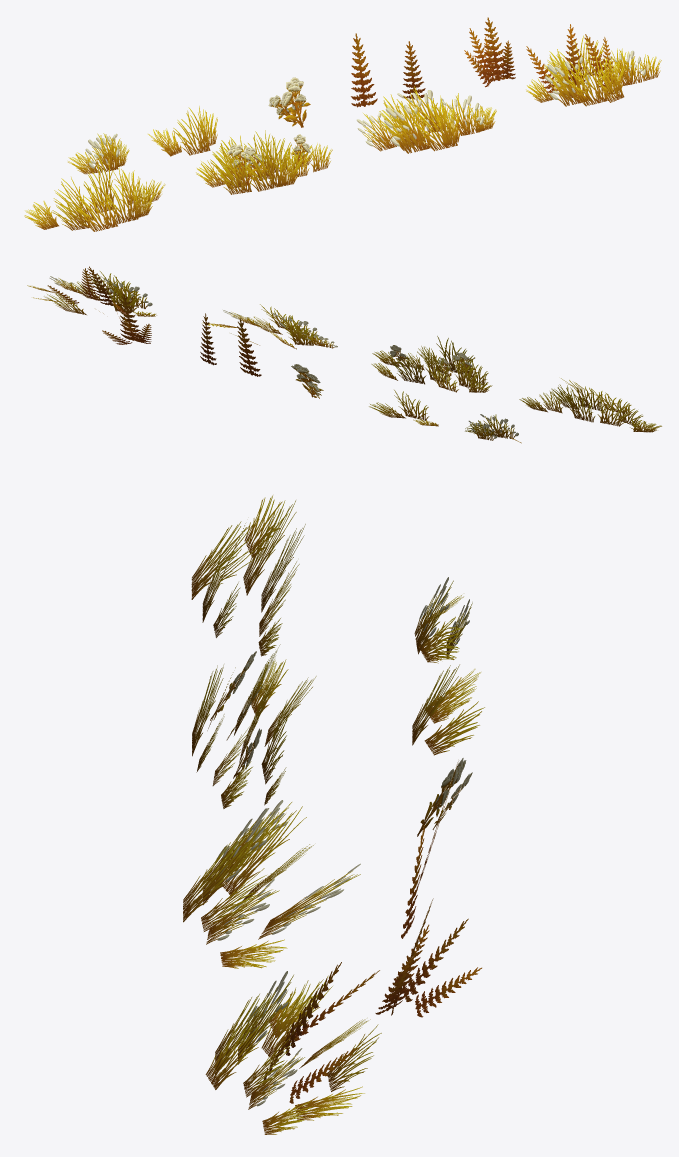
File: 2_Plant_HuangCao_01.FBX
3 renders of one model, top to bottom at view 1: azimuth 30°, elevation 25°; view 2: azimuth 150°, elevation 25°; view 3: azimuth 270°, elevation 25°, orthographic. The views are drawn at different scales.
Visible parts, largest first — view 1: 2_Plant_HongCao_04, 2_Plant_HongCao_03, 2_Plant_HongCao_02, 2_Plant_HongCao_01, 2_Plant_HongCao_10, 2_Plant_HongCao_06, 2_Plant_HongCao_05, 2_Plant_HongCao_07, 2_Plant_HongCao_08, 2_Plant_HongCao_09; view 2: 2_Plant_HongCao_02, 2_Plant_HongCao_01, 2_Plant_HongCao_04, 2_Plant_HongCao_03, 2_Plant_HongCao_10, 2_Plant_HongCao_05, 2_Plant_HongCao_06, 2_Plant_HongCao_08, 2_Plant_HongCao_07, 2_Plant_HongCao_09; view 3: 2_Plant_HongCao_04, 2_Plant_HongCao_03, 2_Plant_HongCao_01, 2_Plant_HongCao_02, 2_Plant_HongCao_06, 2_Plant_HongCao_10, 2_Plant_HongCao_05, 2_Plant_HongCao_07.
Part boxes in pixels (x1=…): 2_Plant_HongCao_04: x1=526, y1=24, x2=661, y2=106; 2_Plant_HongCao_03: x1=356, y1=86, x2=496, y2=153; 2_Plant_HongCao_02: x1=196, y1=130, x2=332, y2=194; 2_Plant_HongCao_01: x1=24, y1=157, x2=165, y2=231; 2_Plant_HongCao_10: x1=464, y1=17, x2=515, y2=87; 2_Plant_HongCao_06: x1=148, y1=106, x2=217, y2=156; 2_Plant_HongCao_05: x1=68, y1=133, x2=129, y2=174; 2_Plant_HongCao_07: x1=268, y1=77, x2=310, y2=127; 2_Plant_HongCao_08: x1=351, y1=33, x2=377, y2=107; 2_Plant_HongCao_09: x1=402, y1=41, x2=426, y2=99; 2_Plant_HongCao_02: x1=371, y1=336, x2=492, y2=392; 2_Plant_HongCao_01: x1=519, y1=378, x2=661, y2=432; 2_Plant_HongCao_04: x1=27, y1=266, x2=156, y2=316; 2_Plant_HongCao_03: x1=203, y1=304, x2=337, y2=349; 2_Plant_HongCao_10: x1=102, y1=293, x2=151, y2=344; 2_Plant_HongCao_05: x1=465, y1=414, x2=521, y2=443; 2_Plant_HongCao_06: x1=369, y1=390, x2=438, y2=426; 2_Plant_HongCao_08: x1=237, y1=318, x2=261, y2=376; 2_Plant_HongCao_07: x1=291, y1=364, x2=323, y2=398; 2_Plant_HongCao_09: x1=200, y1=313, x2=216, y2=365; 2_Plant_HongCao_04: x1=205, y1=962, x2=381, y2=1134; 2_Plant_HongCao_03: x1=183, y1=800, x2=360, y2=968; 2_Plant_HongCao_01: x1=191, y1=495, x2=305, y2=656; 2_Plant_HongCao_02: x1=192, y1=644, x2=316, y2=808; 2_Plant_HongCao_06: x1=412, y1=664, x2=484, y2=755; 2_Plant_HongCao_10: x1=375, y1=898, x2=481, y2=1017; 2_Plant_HongCao_05: x1=414, y1=577, x2=472, y2=663; 2_Plant_HongCao_07: x1=417, y1=758, x2=472, y2=836.
Bounding box in the file's own units: 1606 × 178 × 342.
Materials: 1 (1 with a texture image).
